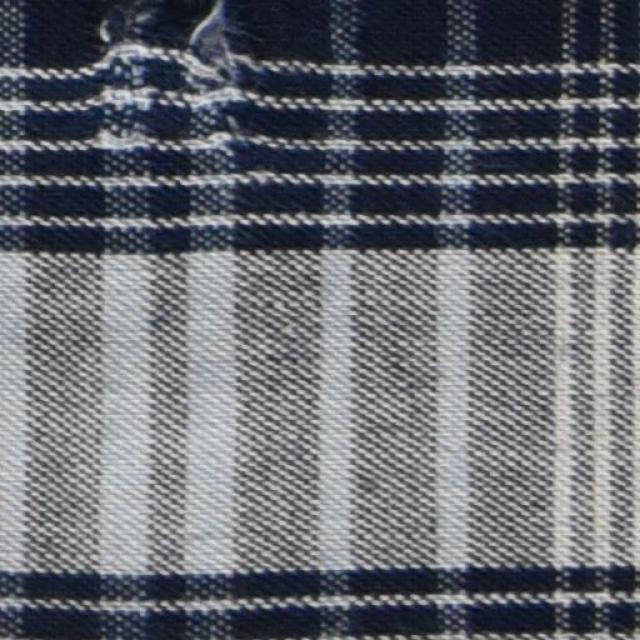Snag: (84, 10, 244, 131)
